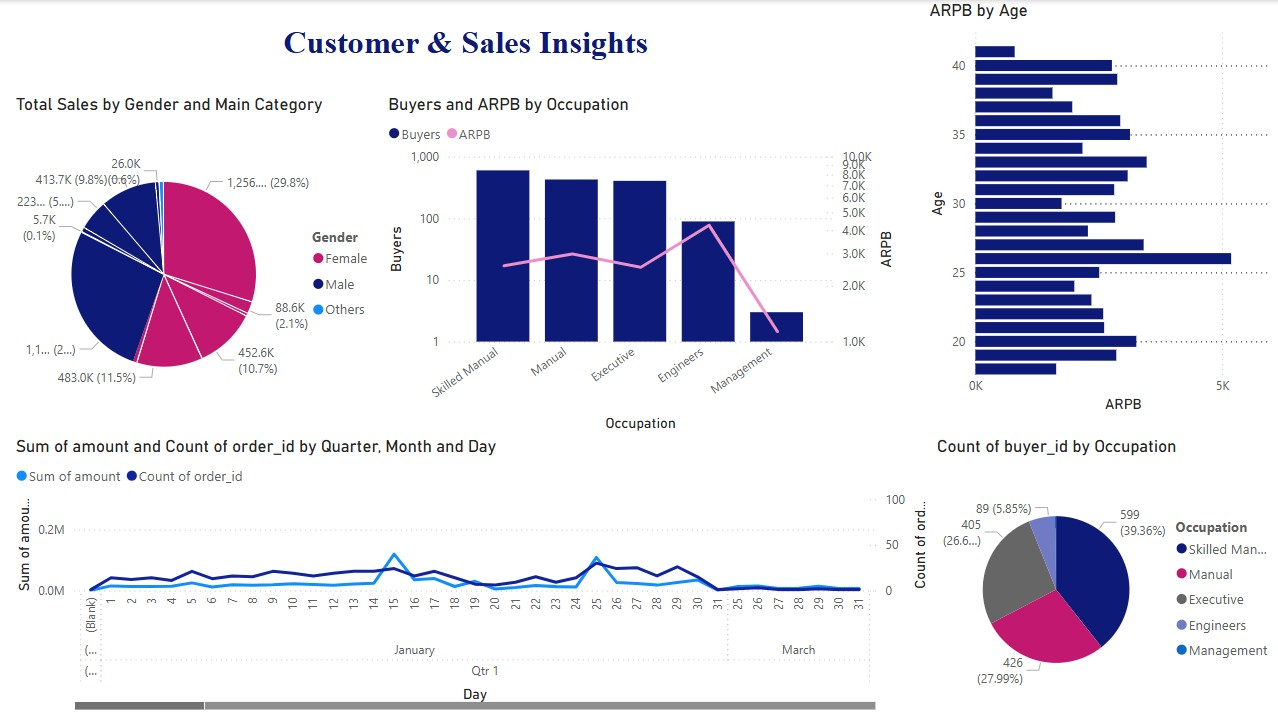

Layout of this report page (visuals, bound fields, positions):
{"tool":"powerbi","page":{"name":"Customer & Sales Insights","canvas":[1280,720],"ordinal":1},"visuals":[{"type":"barChart","fields":{"Category":["Buyers.Age"],"Y":["Sales.ARPB"]},"box":[923.1,0,357.3,415.9],"z":0},{"type":"pieChart","fields":{"Category":["Buyers.Gender"],"Y":["Sum(Sales.amount)"],"Series":["Product.Main Category"]},"box":[13.5,93.6,370.8,340.4],"z":1000},{"type":"lineClusteredColumnComboChart","fields":{"Category":["Buyers.Occupation"],"Y2":["Sales.ARPB"],"Y":["Count(Sales.buyer_id)"]},"box":[384.3,93.6,512.8,340.4],"z":2000},{"type":"lineChart","fields":{"Category":["Sales.order_date.Variation.Date Hierarchy.Quarter","Sales.order_date.Variation.Date Hierarchy.Month","Sales.order_date.Variation.Date Hierarchy.Day"],"Y2":["Count(Sales.order_id)"],"Y":["Sum(Sales.amount)"]},"box":[13.5,433.9,917.5,277.3],"z":3000},{"type":"pieChart","fields":{"Category":["Buyers.Occupation"],"Y":["Count(Buyers.buyer_id)"]},"box":[931,433.9,349.4,286.3],"z":4000},{"type":"textbox","box":[279.5,19.2,385.5,53],"z":5000}]}

Visuals, with their boxes in screenshot pixels (x1, y1, x2, y2), scaled from the page's 1280x720 canvas onto the 1278x716 screenshot:
barChart - Buyers.Age x Sales.ARPB: detection(922, 0, 1277, 414)
pieChart - Buyers.Gender x Sum(Sales.amount): detection(13, 93, 384, 432)
lineClusteredColumnComboChart - Buyers.Occupation x Sales.ARPB: detection(384, 93, 896, 432)
lineChart - Sales.order_date.Variation.Date Hierarchy.Quarter x Sales.order_date.Variation.Date Hierarchy.Month: detection(13, 431, 930, 707)
pieChart - Buyers.Occupation x Count(Buyers.buyer_id): detection(930, 431, 1277, 715)
textbox: detection(279, 19, 664, 72)
